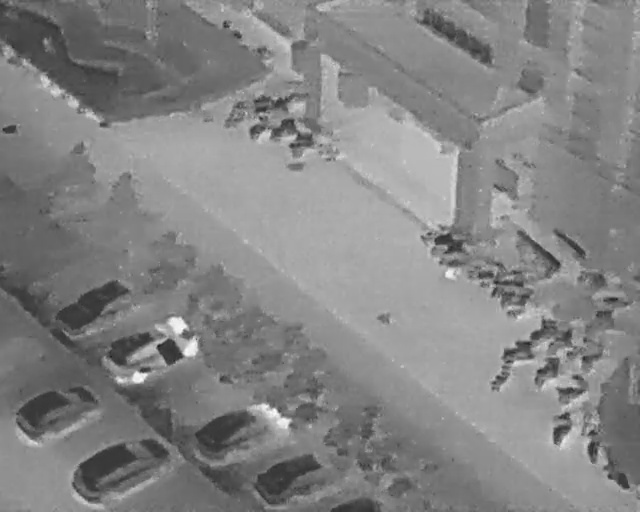Bicycle: (597, 454, 637, 496), (527, 353, 568, 393), (545, 406, 578, 449), (551, 374, 592, 407), (432, 236, 468, 270), (524, 312, 561, 345), (498, 336, 535, 366), (576, 343, 608, 375), (486, 272, 526, 296), (423, 229, 457, 256), (546, 327, 575, 356), (561, 337, 590, 366), (583, 424, 603, 464), (495, 289, 532, 309), (471, 259, 500, 283), (219, 16, 245, 42), (285, 135, 313, 157), (244, 118, 270, 141), (270, 121, 298, 140), (316, 144, 342, 163), (502, 304, 528, 322), (224, 112, 246, 126), (272, 96, 292, 110), (231, 98, 248, 110), (254, 105, 272, 116)
Car: (92, 303, 205, 395), (68, 419, 181, 511), (182, 382, 288, 472), (48, 262, 151, 348), (6, 365, 106, 450), (247, 438, 335, 511), (329, 494, 382, 511)
